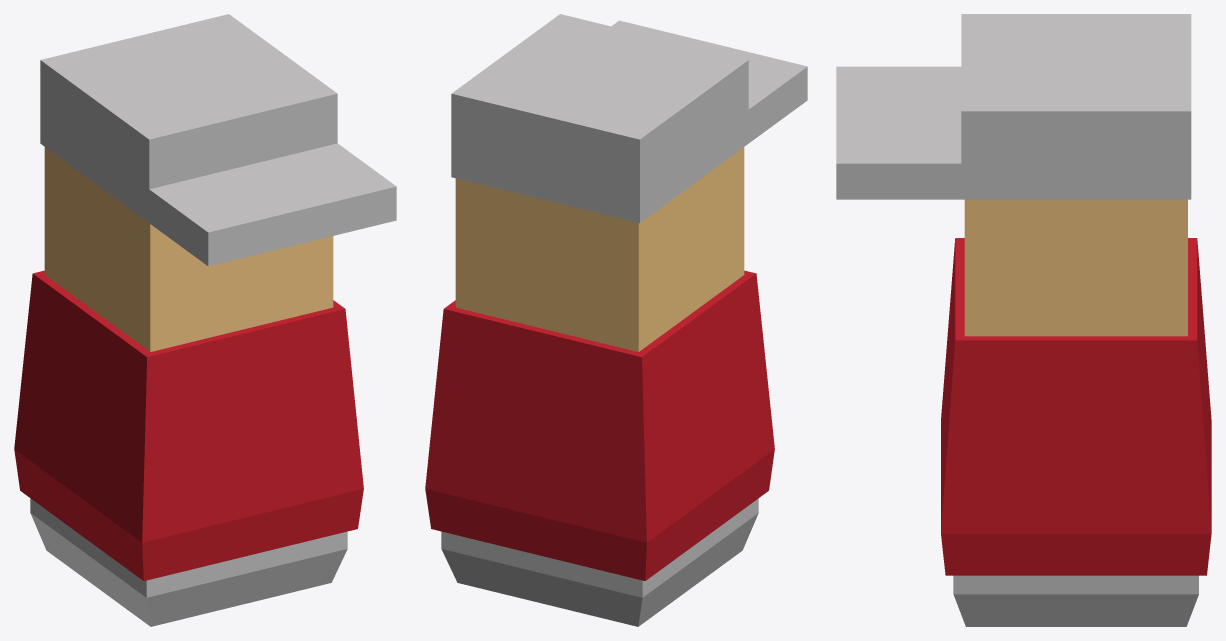
Rendered from person2.glb.
3 views of the same model, side by side, from view 1: azimuth 30°, elevation 25°; view 2: azimuth 150°, elevation 25°; view 3: azimuth 270°, elevation 25° (orthographic). The views are drawn at different scales.
Parts seen in each view (by area): view 1: UpperBody, Hat, Face, LowerBody; view 2: UpperBody, Hat, Face, LowerBody; view 3: UpperBody, Hat, Face, LowerBody.
Boxes of the visible parts, bbox=[...] form: UpperBody: bbox=[14, 270, 363, 580]; Hat: bbox=[40, 14, 396, 266]; Face: bbox=[44, 147, 333, 351]; LowerBody: bbox=[30, 498, 347, 626]; UpperBody: bbox=[425, 270, 774, 580]; Hat: bbox=[451, 14, 807, 222]; Face: bbox=[455, 147, 744, 351]; LowerBody: bbox=[441, 498, 758, 626]; UpperBody: bbox=[941, 238, 1211, 575]; Hat: bbox=[836, 14, 1191, 199]; Face: bbox=[964, 199, 1187, 336]; LowerBody: bbox=[953, 575, 1198, 626].
Size of the model in its own units: 2.42 by 5.12 by 3.36.
